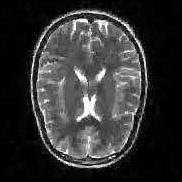Normal_Brain: (6, 6, 181, 182)
